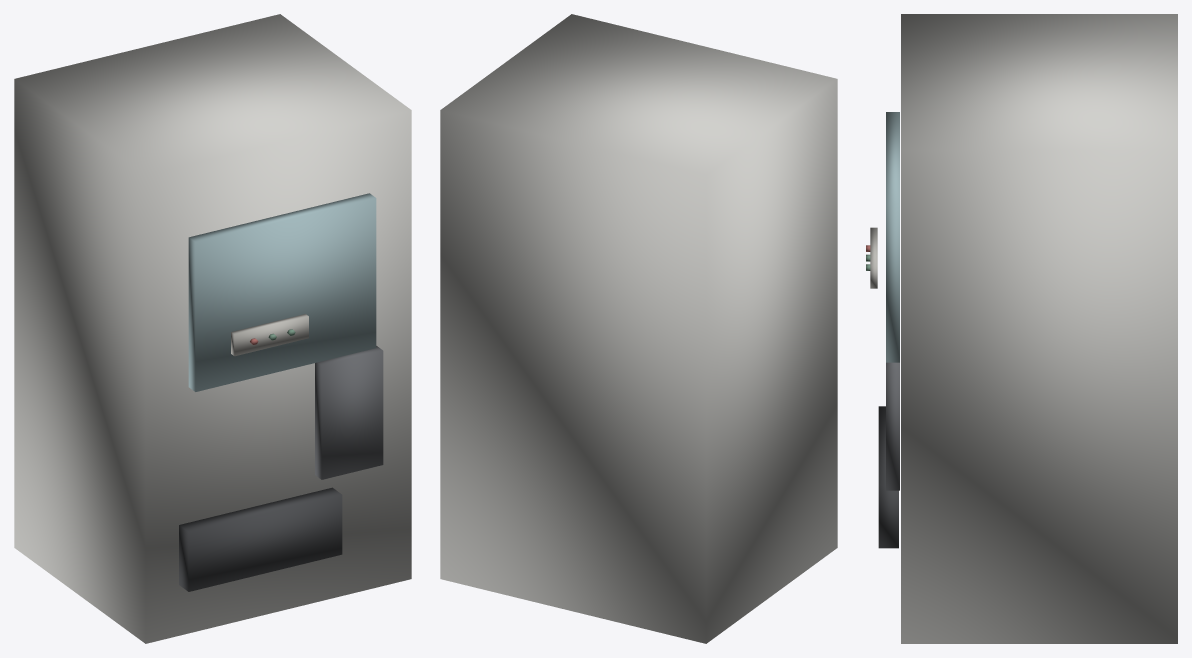
The model's file is snack_vending_machine__squat.glb.
3 renders of one model, left to right at view 1: azimuth 30°, elevation 25°; view 2: azimuth 150°, elevation 25°; view 3: azimuth 270°, elevation 25°, orthographic. The views are drawn at different scales.
Visible parts, largest first — view 1: world; view 2: world; view 3: world.
Part boxes in pixels (box(x1,y1,x2,y2)): world: box(14, 14, 411, 643); world: box(440, 14, 837, 643); world: box(866, 14, 1177, 643).
Size of the model in its own units: 0.858 by 1.44 by 0.8273.
